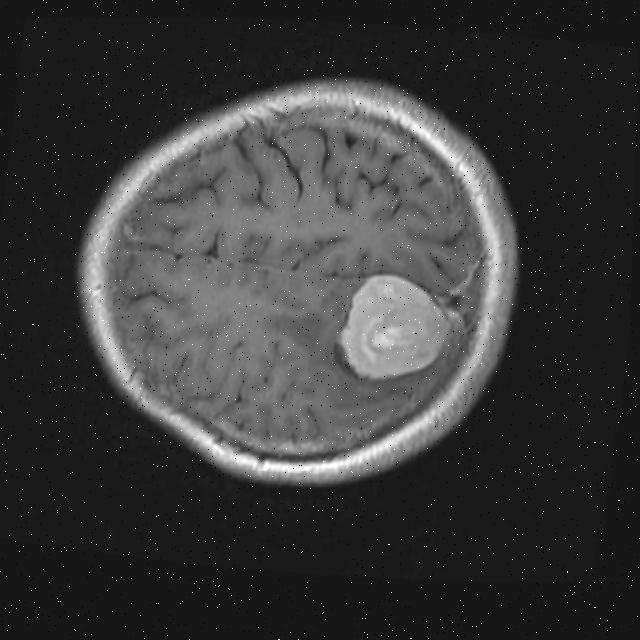Meningioma: (333, 267, 454, 386)
